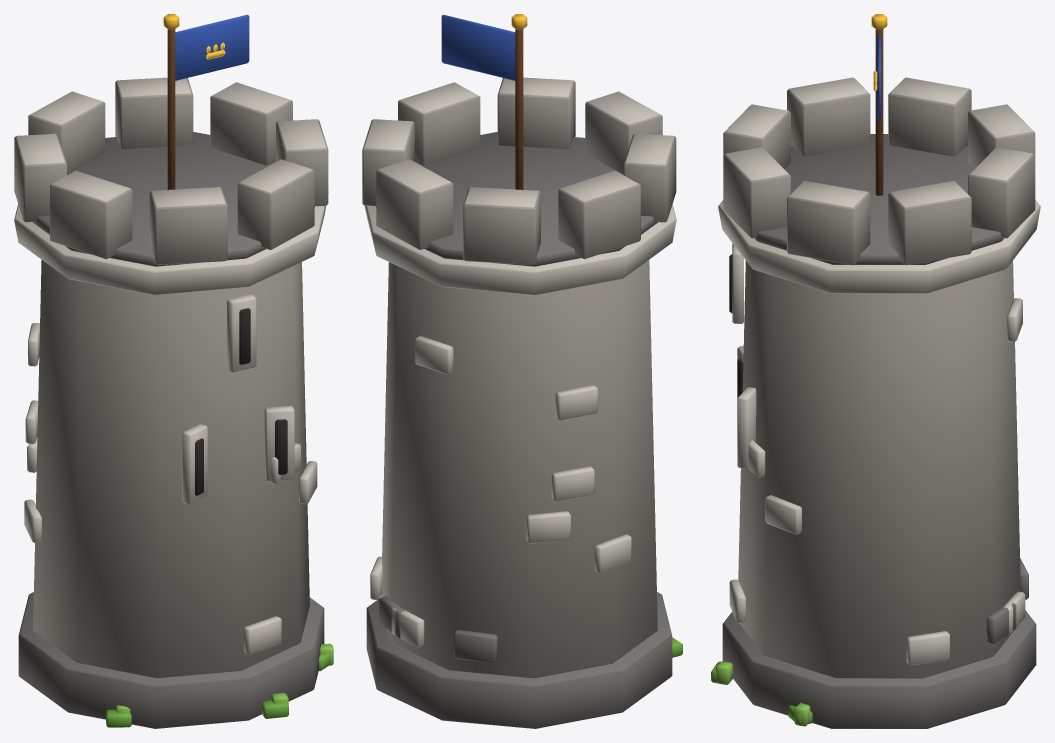
File: B_MedCornerTower.fbx
3 views of the same model, side by side, from view 1: azimuth 30°, elevation 25°; view 2: azimuth 150°, elevation 25°; view 3: azimuth 270°, elevation 25° (orthographic).
Visible parts, largest first — view 1: M_CornerTower; view 2: M_CornerTower; view 3: M_CornerTower.
Part boxes in pixels (left/top/right/bottom): M_CornerTower: left=14, top=14, right=333, bottom=728; M_CornerTower: left=362, top=14, right=682, bottom=728; M_CornerTower: left=711, top=14, right=1040, bottom=728.
Size of the model in its own units: 3.18 by 7.32 by 3.36.
Materials: 1 (1 with a texture image).
